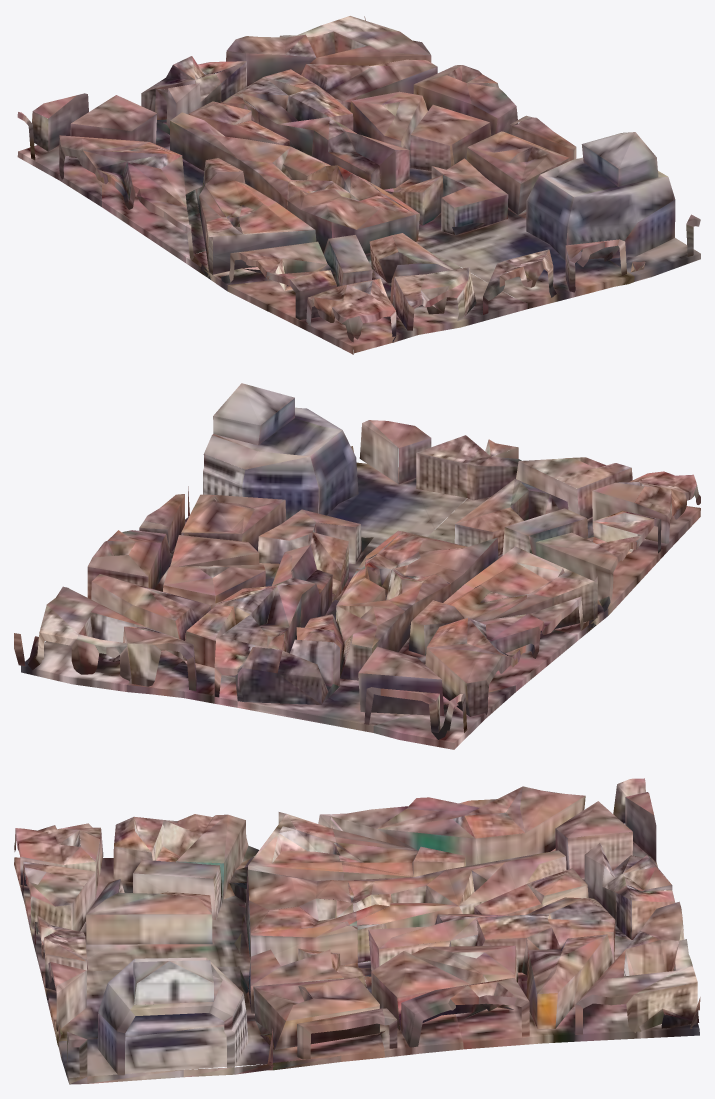
The picture shows the model from 3 angles, top to bottom: view 1: azimuth 30°, elevation 25°; view 2: azimuth 150°, elevation 25°; view 3: azimuth 270°, elevation 25°; orthographic projection. The views are drawn at different scales.
Parts seen in each view (by area): view 1: Mesh_0; view 2: Mesh_0; view 3: Mesh_0.
Part boxes in pixels (box(x1,y1,x2,y2)): Mesh_0: box(17, 16, 700, 354); Mesh_0: box(14, 383, 700, 749); Mesh_0: box(14, 778, 700, 1084).
Bounding box in the file's own units: 269 × 60.8 × 330.
Materials: 2 (2 with a texture image).
